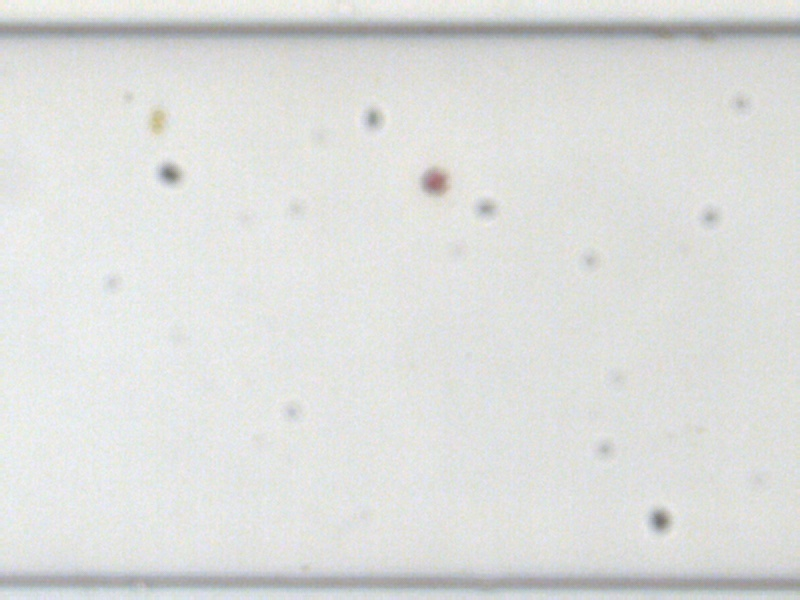Chlorella: (148, 120, 166, 136), (149, 107, 166, 123)
Porphyridium: (419, 166, 449, 195)
